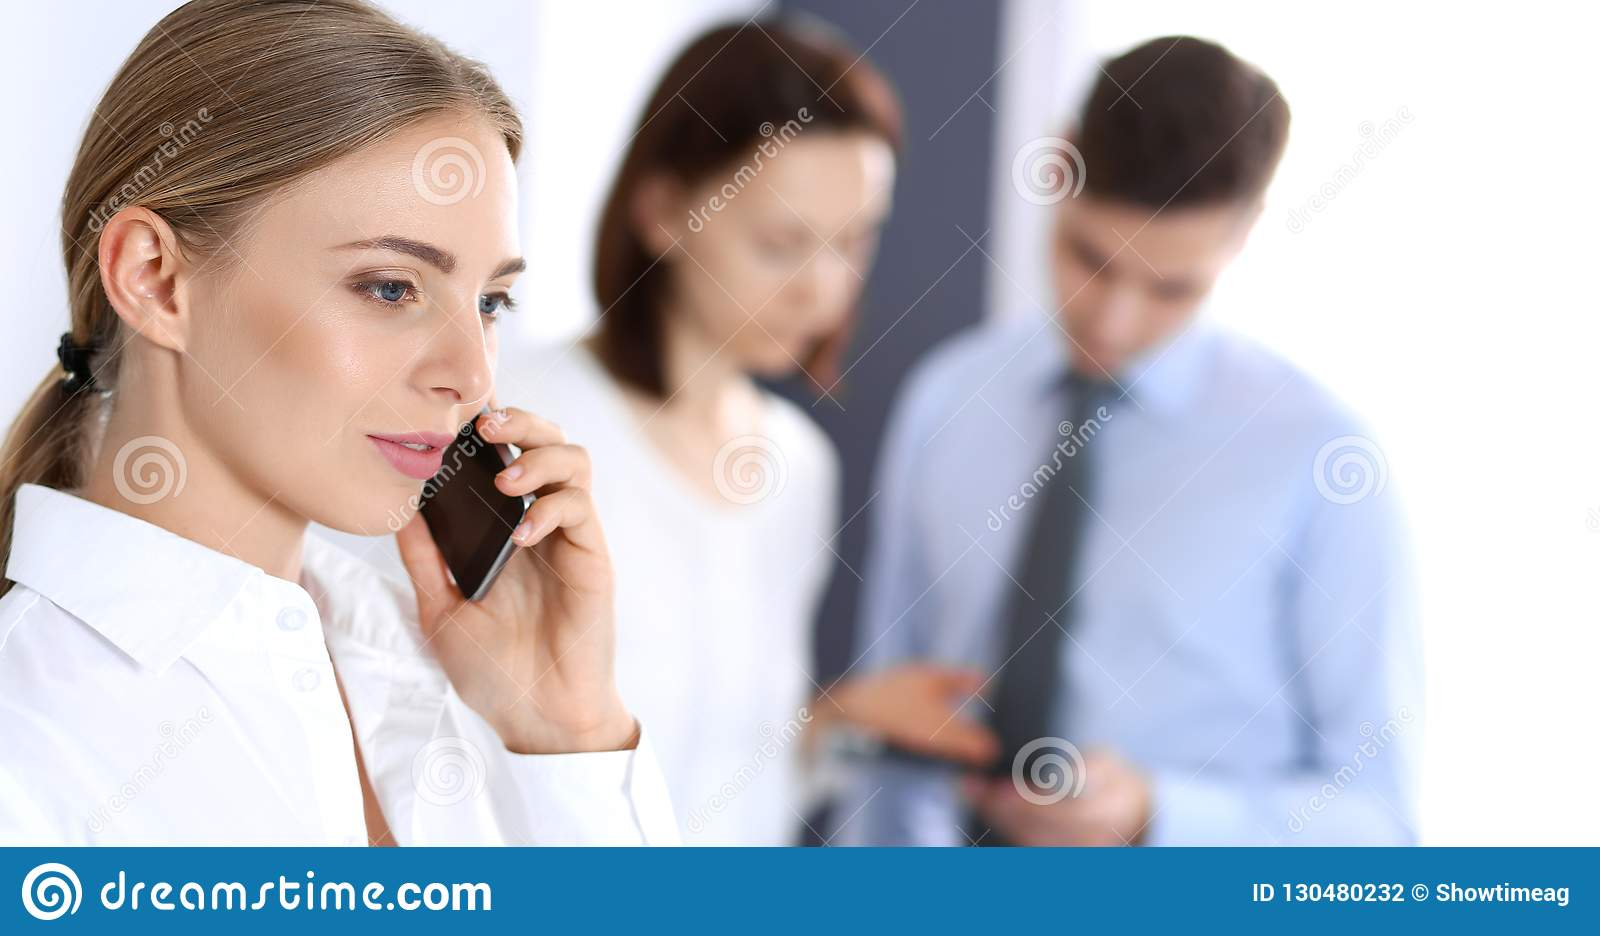phone: (421, 407, 531, 599)
talk: (291, 209, 633, 753)
